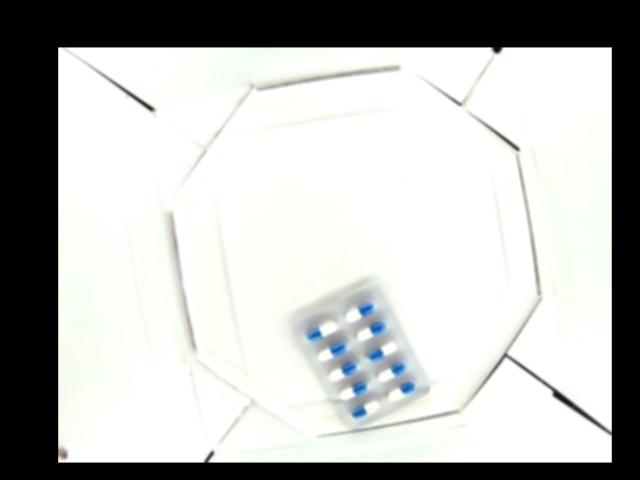Medicine: (291, 282, 431, 433)
